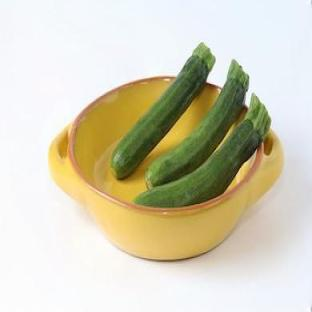Zucchini: (135, 95, 270, 207), (111, 44, 215, 178), (146, 60, 248, 188)
